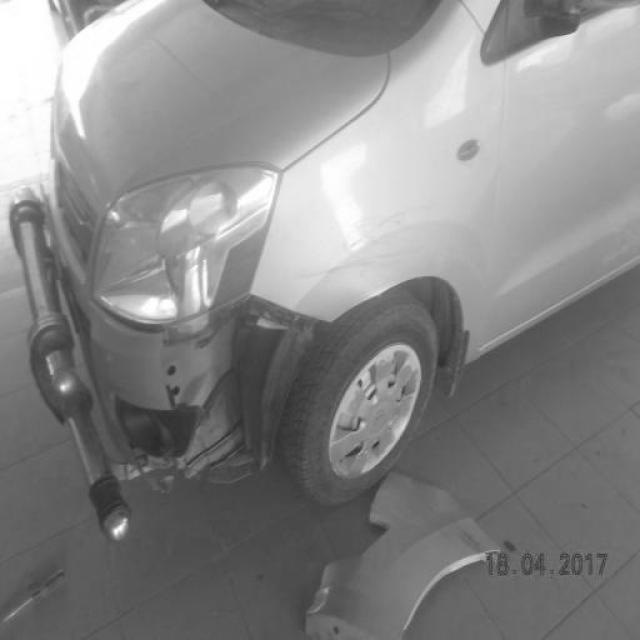car damage: (132, 293, 333, 493)
